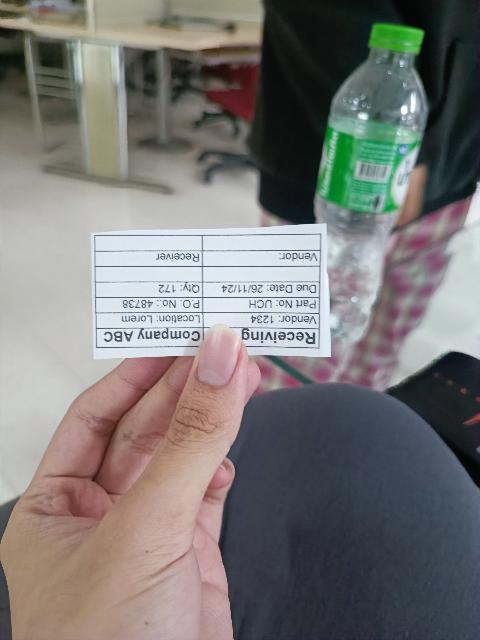PO no: (95, 297, 203, 313)
part no: (203, 298, 319, 313)
qty: (95, 282, 203, 297)
tags: (92, 224, 330, 359)
